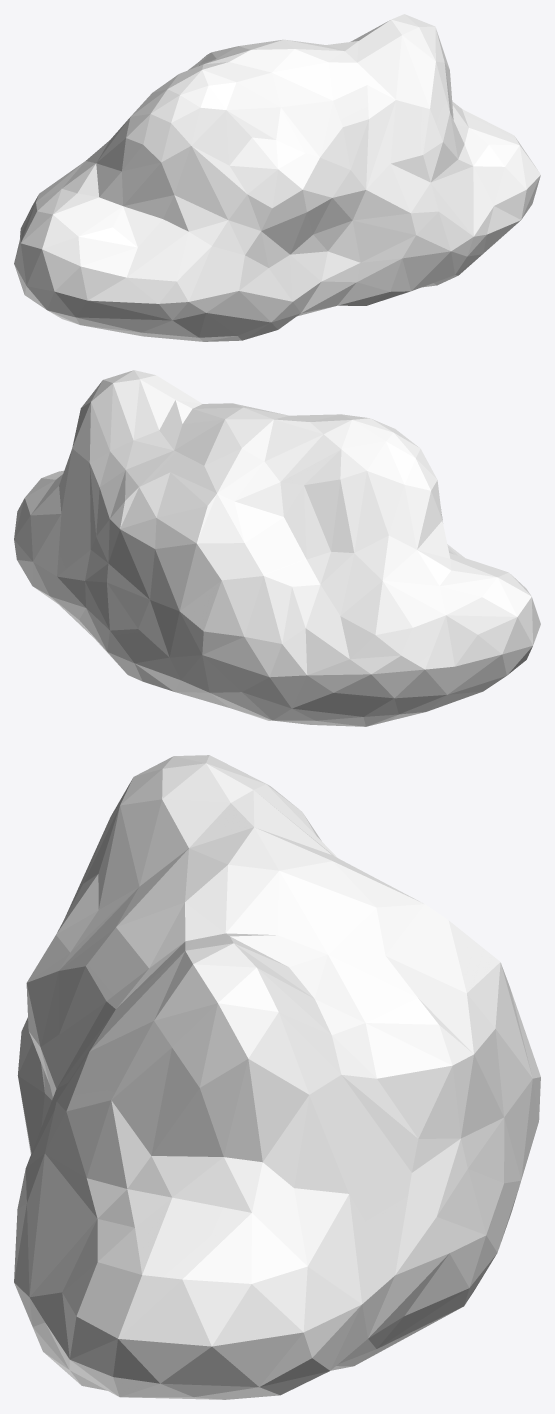
Rendered from Small_Cloud_03.glb.
3 renders of one model, top to bottom at view 1: azimuth 30°, elevation 25°; view 2: azimuth 150°, elevation 25°; view 3: azimuth 270°, elevation 25°, orthographic. The views are drawn at different scales.
Visible parts, largest first — view 1: Cloud_03; view 2: Cloud_03; view 3: Cloud_03.
Part boxes in pixels (x1,y1,x2,y2): Cloud_03: [14, 14, 540, 341]; Cloud_03: [14, 370, 540, 726]; Cloud_03: [14, 755, 540, 1399].
Bounding box in the file's own units: 4.33 × 2.1 × 2.2.
1 material, 1 textured.
